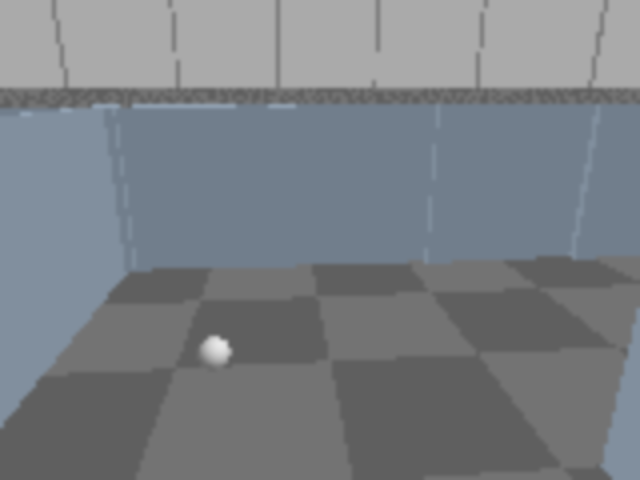puck: (193, 330, 232, 378)
